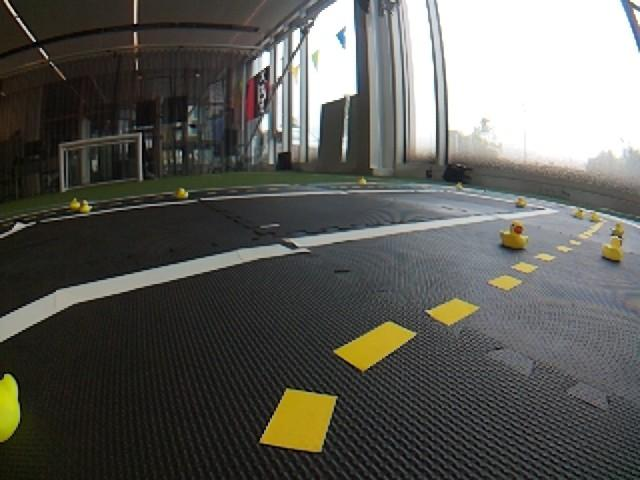Duckies: (0, 369, 20, 455), (500, 220, 528, 248), (601, 236, 624, 261), (77, 201, 91, 212), (176, 187, 189, 198), (611, 223, 624, 234), (590, 212, 602, 222), (574, 209, 586, 218), (71, 200, 82, 209), (517, 198, 527, 206), (357, 177, 367, 184), (455, 183, 462, 190)
